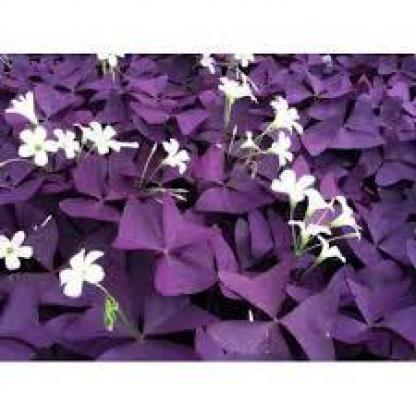Kupu-Kupu: (219, 268, 332, 353), (119, 197, 210, 291), (308, 81, 374, 160), (121, 69, 184, 138)
